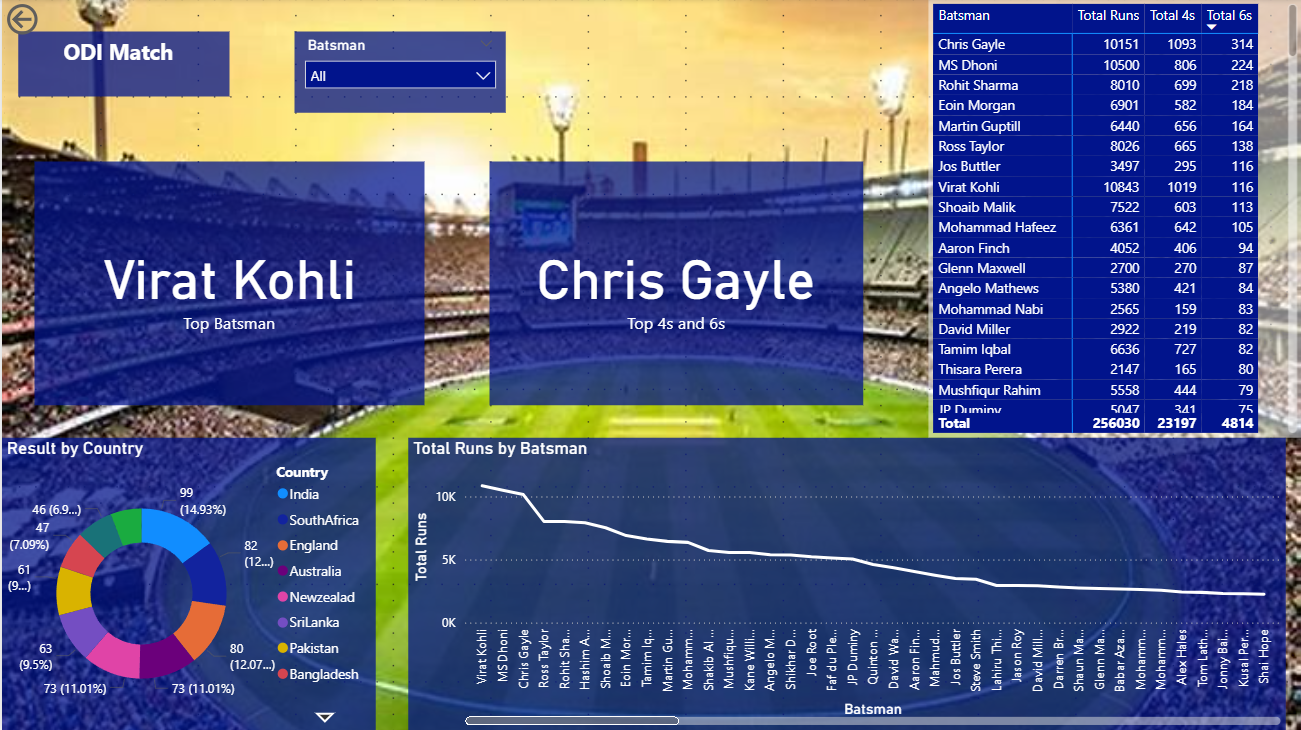

Layout of this report page (visuals, bound fields, positions):
{"tool":"powerbi","page":{"name":"Page 1","canvas":[1280,720],"ordinal":0},"visuals":[{"type":"pivotTable","fields":{"Rows":["Batsman Lookup.Batsman"],"Values":["Measure.Total Runs","Measure.Total 4s","Measure.Total 6s"]},"box":[912,0,368,432],"z":0},{"type":"donutChart","fields":{"Y":["ODI_Match_Results.Result"],"Category":["ODI_Match_Results.Country"]},"box":[0,432,368,288],"z":1000},{"type":"textbox","box":[16,32,208,64],"z":2000},{"type":"slicer","fields":{"Values":["Batsman_Data.Batsman"]},"box":[288,32,208,80],"z":3000},{"type":"actionButton","box":[0,0,100,40],"z":4000},{"type":"card","fields":{"Values":["Batsman Lookup.Batsman"]},"box":[32,160,384,240],"z":5000},{"type":"card","fields":{"Values":["Batsman Lookup.Batsman"]},"box":[480,160,368,240],"z":6000},{"type":"lineChart","fields":{"Y":["Measure.Total Runs"],"Category":["Batsman Lookup.Batsman"]},"box":[400,432,864,288],"z":7000}]}

Visuals, with their boxes in screenshot pixels (x1, y1, x2, y2), scaled from the page's 1280x720 canvas onto the 1301x730 screenshot:
pivotTable - Batsman Lookup.Batsman x Measure.Total Runs: (927, 0, 1300, 438)
donutChart - ODI_Match_Results.Result x ODI_Match_Results.Country: (0, 438, 374, 729)
textbox: (16, 32, 228, 97)
slicer - Batsman_Data.Batsman: (293, 32, 504, 114)
actionButton: (0, 0, 102, 41)
card - Batsman Lookup.Batsman: (33, 162, 423, 406)
card - Batsman Lookup.Batsman: (488, 162, 862, 406)
lineChart - Measure.Total Runs x Batsman Lookup.Batsman: (407, 438, 1285, 729)
